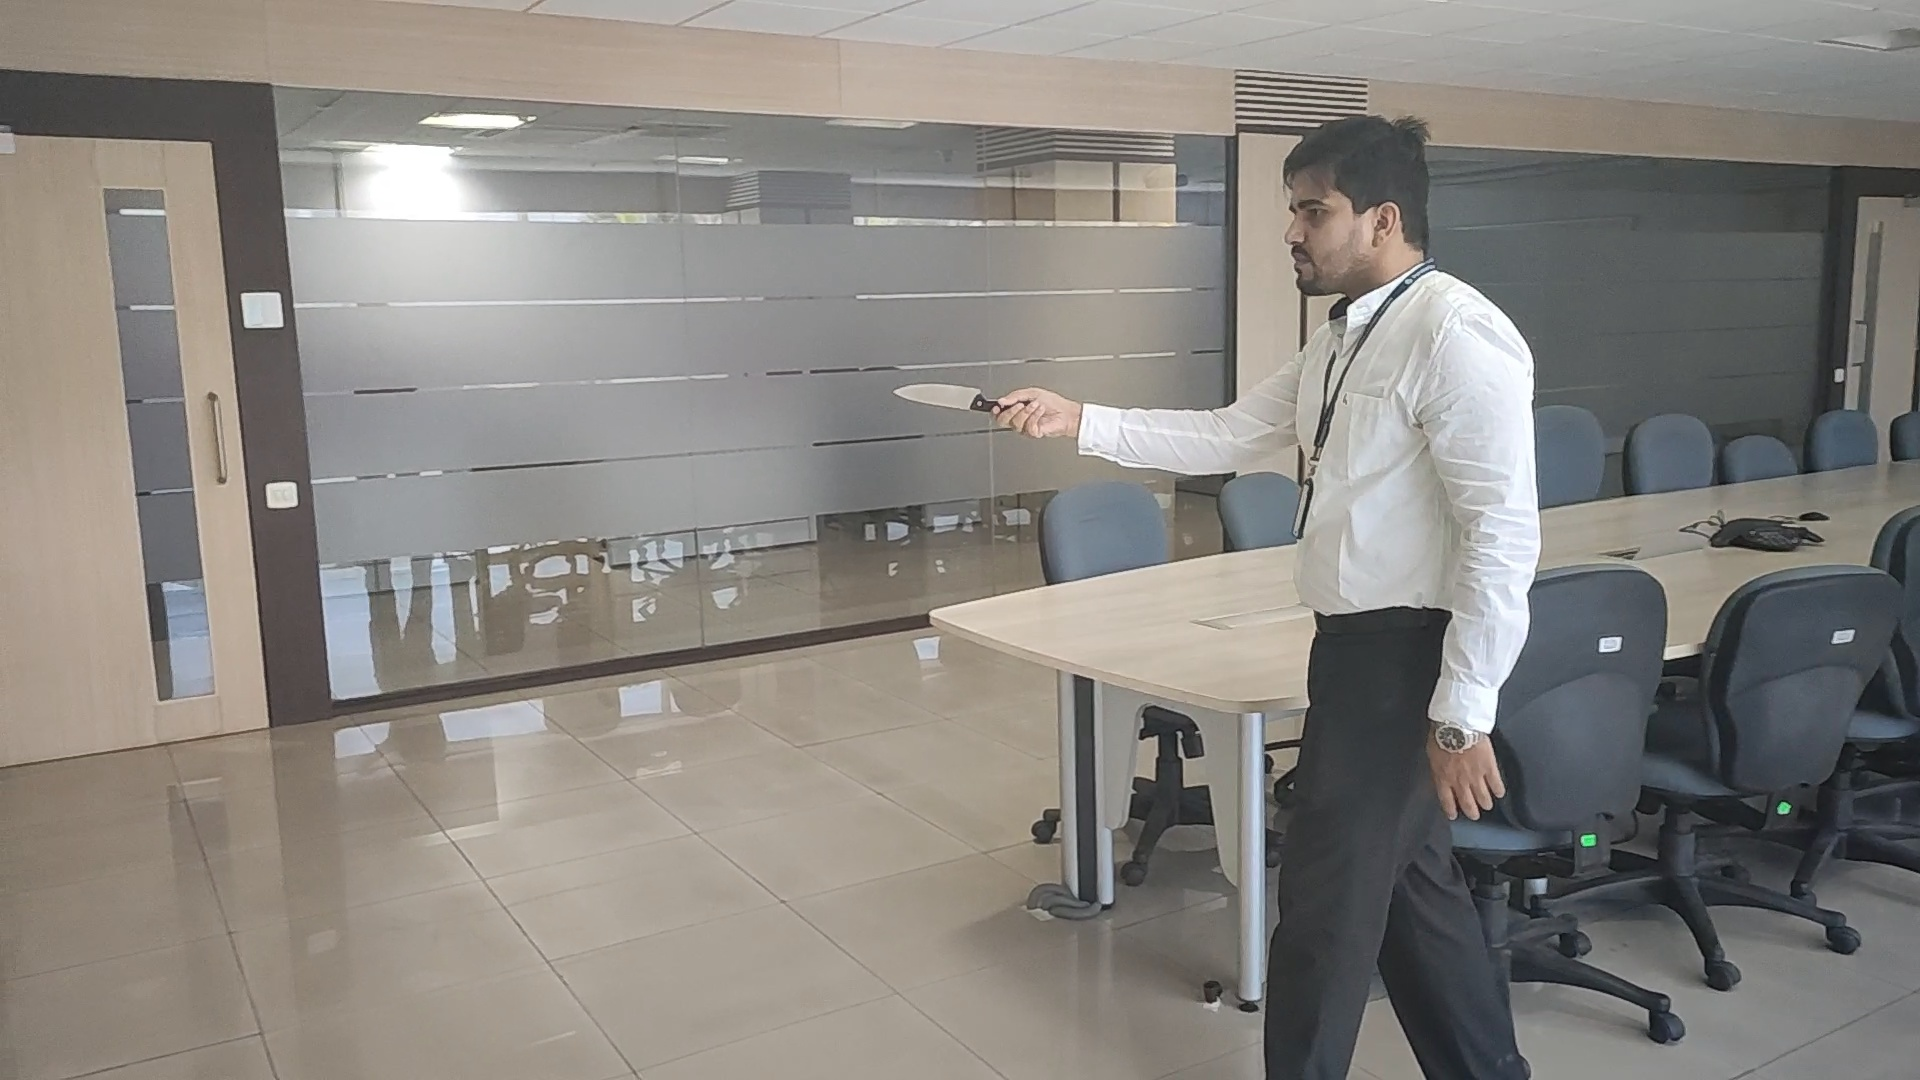knife: (891, 382, 990, 413)
